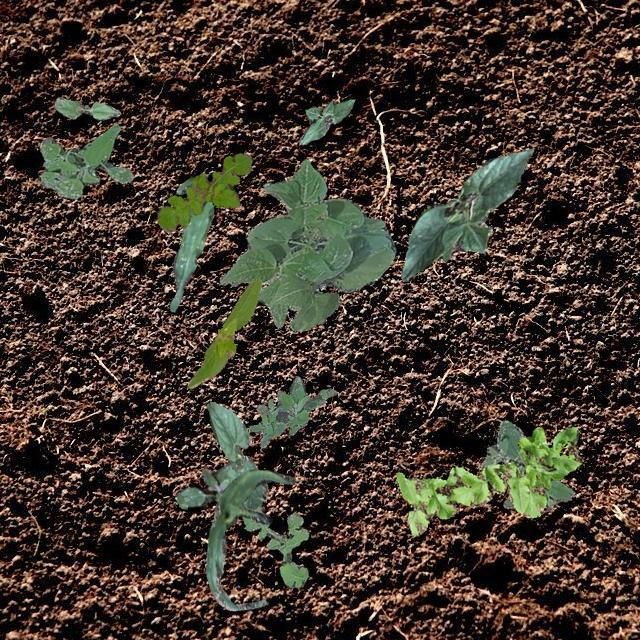crop: (218, 158, 394, 330), (399, 146, 533, 280), (204, 468, 294, 610), (187, 278, 260, 387), (205, 401, 268, 508), (168, 176, 212, 310), (298, 98, 354, 144), (54, 96, 120, 118)
weed: (394, 426, 580, 536), (479, 419, 574, 508), (156, 152, 252, 230), (38, 124, 132, 198), (248, 376, 336, 446), (241, 506, 307, 586), (174, 460, 236, 508)
